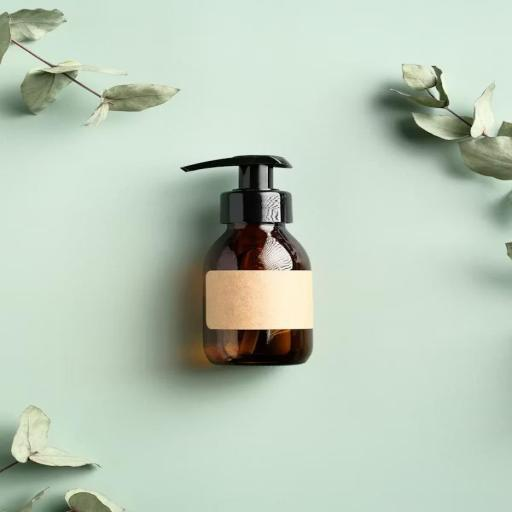bottle: (160, 144, 336, 374)
